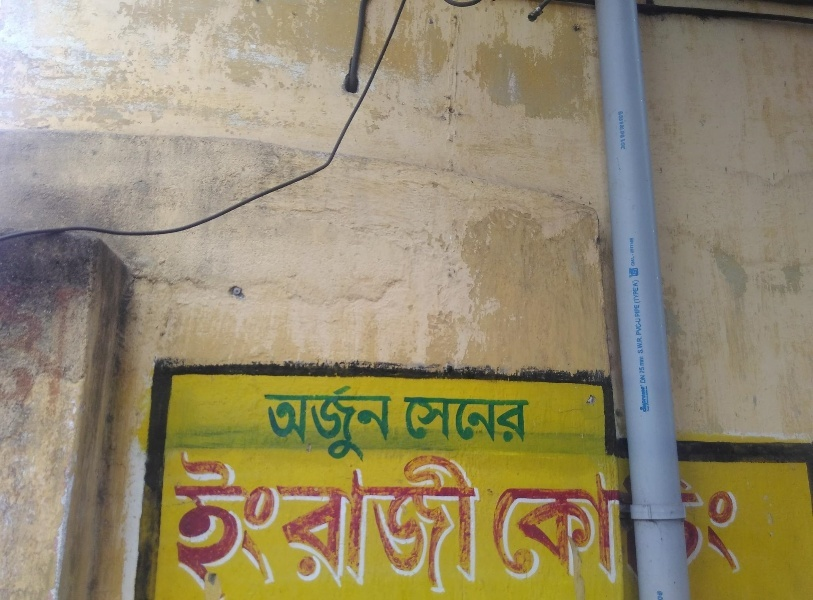text: (177, 449, 192, 600), (193, 449, 208, 600), (209, 449, 224, 600), (225, 449, 240, 600), (241, 449, 256, 600), (257, 449, 272, 600), (273, 449, 288, 600), (289, 449, 304, 600), (305, 449, 320, 600), (321, 449, 336, 600), (337, 449, 352, 600), (353, 449, 368, 600), (369, 449, 384, 600), (385, 449, 400, 600), (401, 449, 416, 600), (417, 449, 432, 600), (433, 449, 448, 600), (449, 449, 464, 600), (465, 449, 480, 600), (641, 239, 653, 412), (497, 470, 512, 586), (513, 470, 528, 586), (529, 470, 544, 586), (545, 470, 560, 586), (561, 470, 576, 586), (577, 470, 592, 586), (593, 470, 608, 586), (609, 470, 624, 586), (625, 470, 640, 586), (641, 470, 656, 586), (657, 470, 672, 586), (673, 470, 688, 586), (689, 470, 704, 586), (705, 470, 720, 586), (721, 470, 736, 586), (737, 470, 750, 586), (273, 385, 288, 462), (289, 385, 304, 462), (305, 385, 320, 462), (321, 385, 336, 462), (337, 385, 352, 462), (353, 385, 368, 462), (369, 385, 384, 462), (417, 396, 432, 445), (433, 396, 448, 445), (449, 396, 464, 445), (465, 396, 480, 445), (481, 396, 496, 445), (497, 396, 512, 445), (513, 396, 528, 445), (385, 385, 394, 462), (402, 396, 416, 445), (264, 385, 272, 462), (173, 449, 176, 600), (638, 239, 640, 412), (617, 108, 624, 157), (529, 396, 535, 445), (625, 108, 630, 157), (481, 449, 482, 600)
